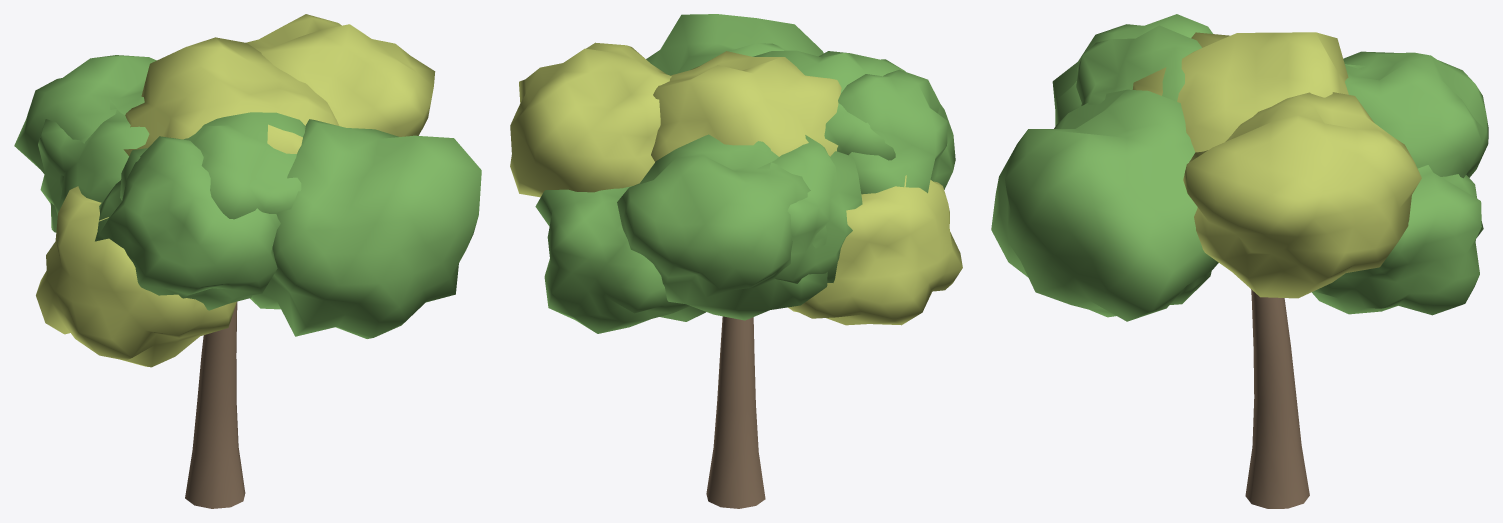
Rendered from tree_broadleaf.fbx.
3 renders of one model, left to right at view 1: azimuth 30°, elevation 25°; view 2: azimuth 150°, elevation 25°; view 3: azimuth 270°, elevation 25°, orthographic. The views are drawn at different scales.
Visible parts, largest first — view 1: tree_broadleaf_LOD0; view 2: tree_broadleaf_LOD0; view 3: tree_broadleaf_LOD0.
Part boxes in pixels (x1,y1,x2,y2): tree_broadleaf_LOD0: [14, 14, 481, 508]; tree_broadleaf_LOD0: [510, 14, 962, 508]; tree_broadleaf_LOD0: [991, 14, 1488, 508].
Size of what is drawn, in the model's own units: 8.32 by 8.67 by 8.48.
